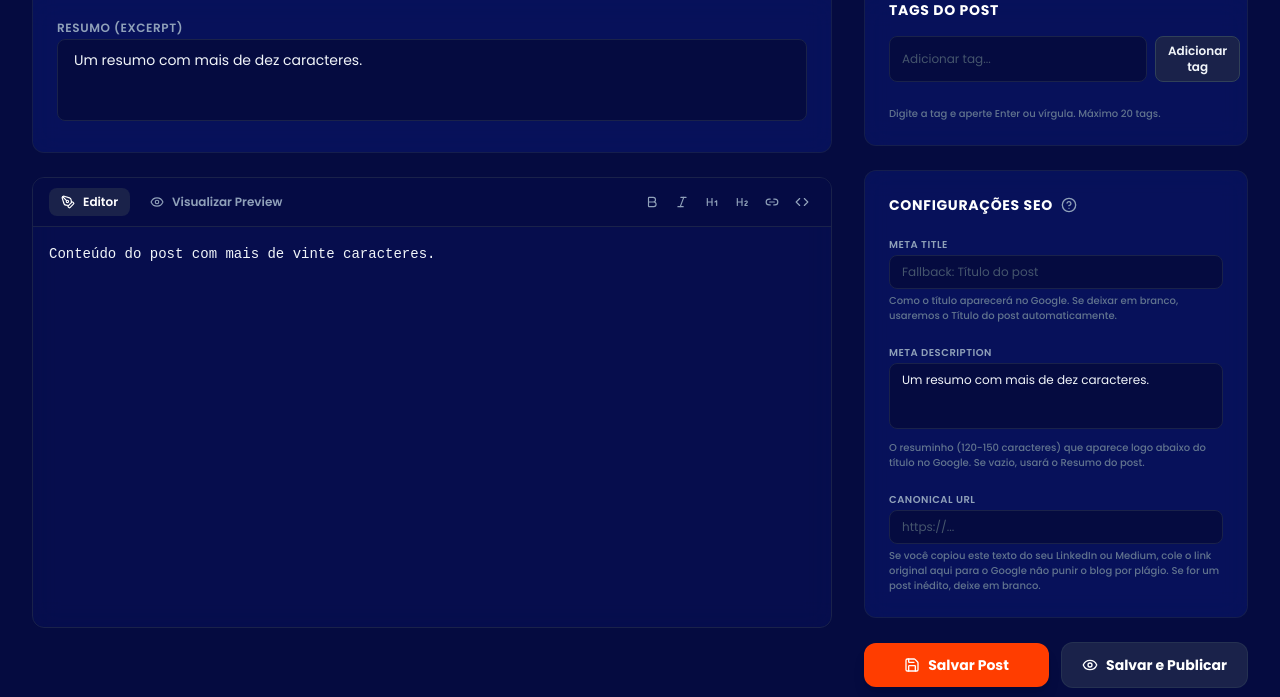
Test case: Editar post: Salvar e Publicar › se salvar falha, não tenta publicar e mostra o erro
(page scrolled)
Click the button "Salvar e Publicar".
click(1154, 665)  # box [1061, 642, 1248, 688]
(page scrolled)
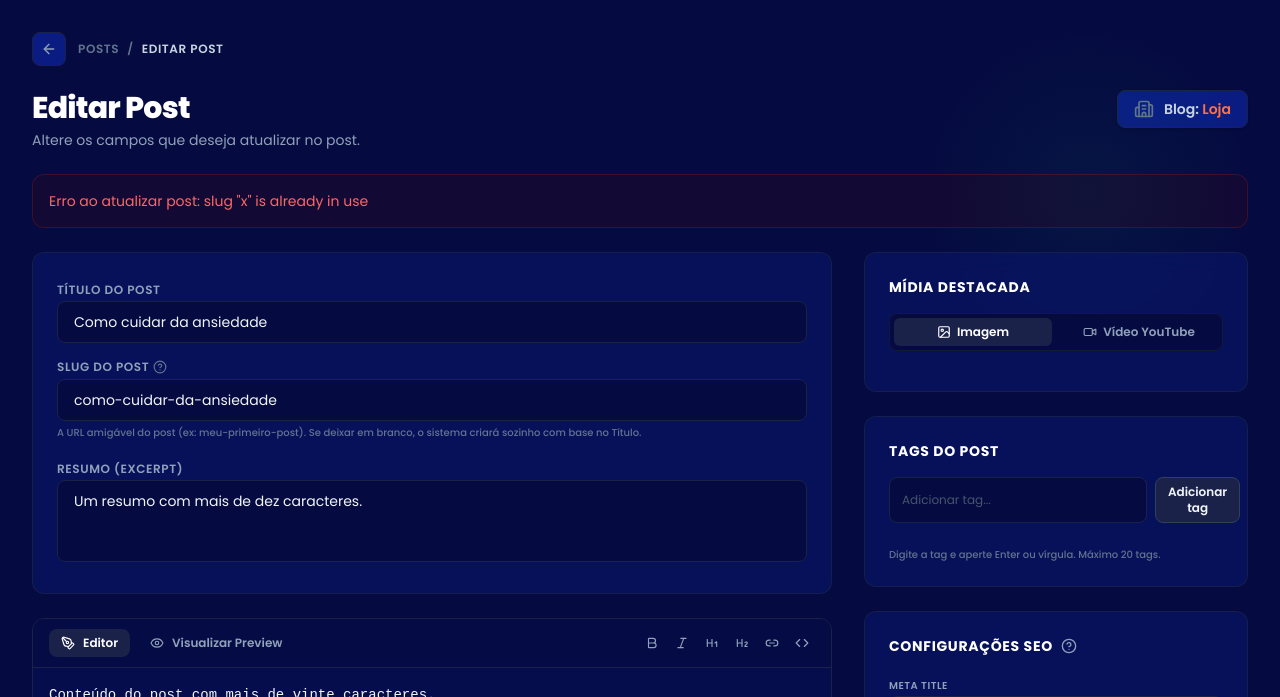
Expected: the text "Erro ao atualizar post: slug \"x\" is already in use" is shown, [32, 174, 1248, 228]
